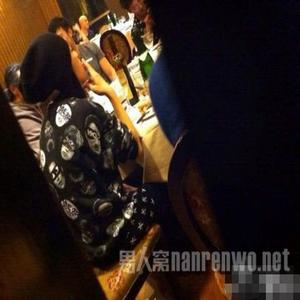cigarette: (83, 57, 93, 66)
